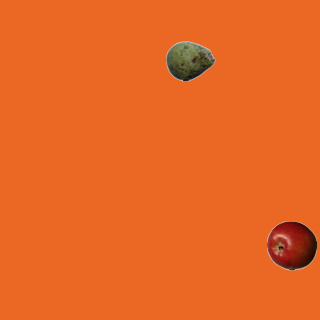Apple Braeburn: (266, 220, 316, 270)
Pear Stone: (165, 36, 215, 86)
